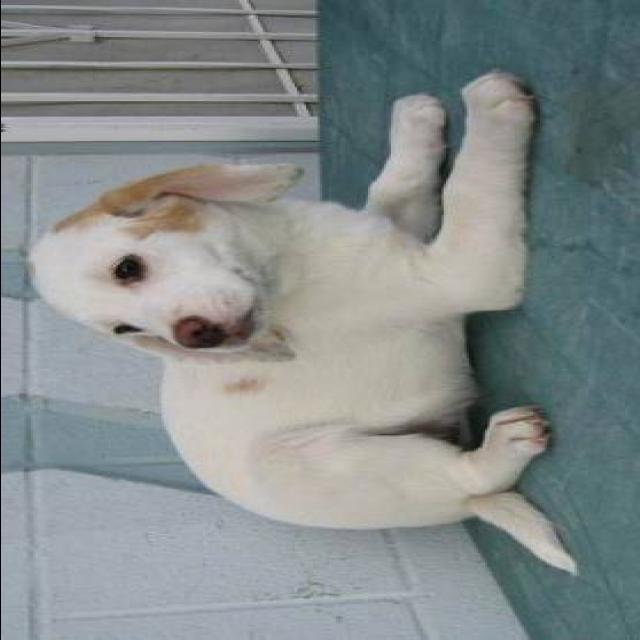dog: (34, 80, 582, 586)
